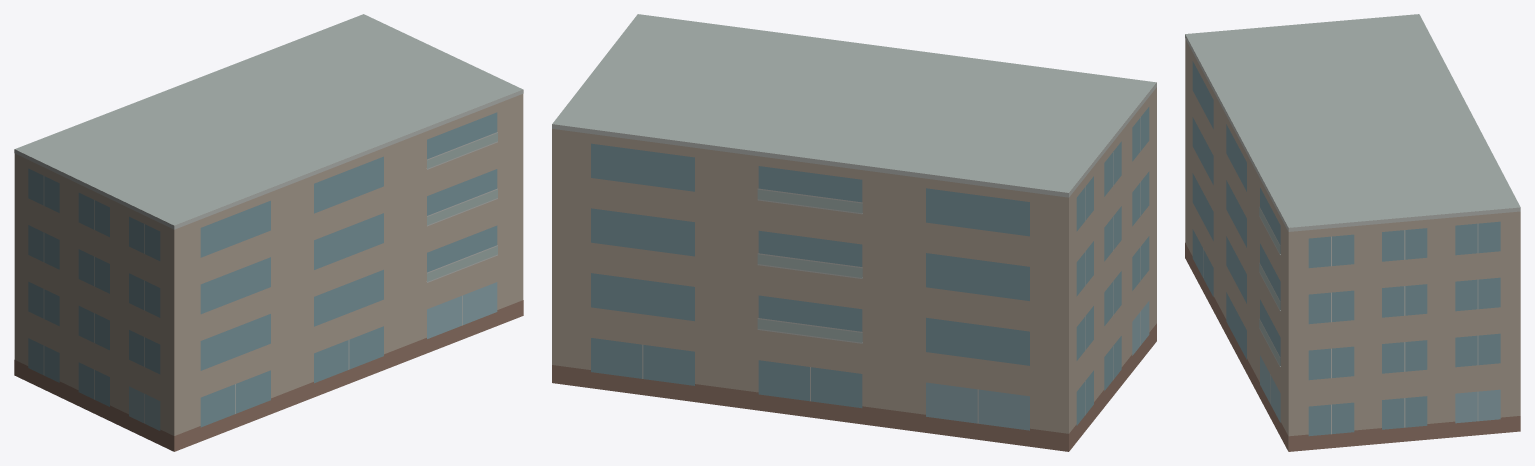
Rendered from survey-upis-32698518.glb.
The picture shows the model from 3 angles, left to right: view 1: azimuth 30°, elevation 25°; view 2: azimuth 150°, elevation 25°; view 3: azimuth 270°, elevation 25°; orthographic projection. The views are drawn at different scales.
Visible parts, largest first — view 1: survey-upis-32698518.tmp; view 2: survey-upis-32698518.tmp; view 3: survey-upis-32698518.tmp.
Part boxes in pixels (<box>): survey-upis-32698518.tmp: <box>14,14,523,451</box>; survey-upis-32698518.tmp: <box>552,14,1156,451</box>; survey-upis-32698518.tmp: <box>1185,14,1520,451</box>.
Bounding box in the file's own units: 27.66 × 13.5 × 18.34.
